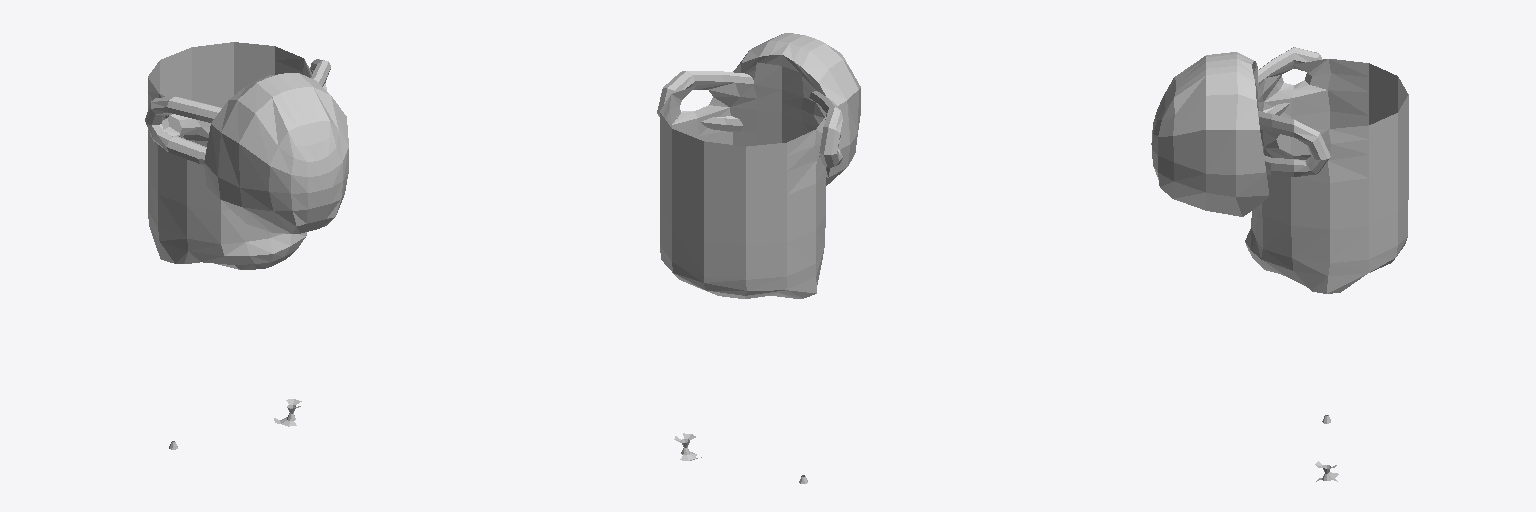
File: FinnT.obj
3 renders of one model, left to right at view 1: azimuth 30°, elevation 25°; view 2: azimuth 150°, elevation 25°; view 3: azimuth 270°, elevation 25°, orthographic.
Visible parts, largest first — view 1: FinnTorso_finn_color; view 2: FinnTorso_finn_color; view 3: FinnTorso_finn_color.
Part boxes in pixels (left/top/right/bottom): FinnTorso_finn_color: left=145, top=42, right=348, bottom=449; FinnTorso_finn_color: left=657, top=33, right=860, bottom=483; FinnTorso_finn_color: left=1151, top=47, right=1408, bottom=481.
Size of the model in its own units: 3.06 by 6.44 by 3.8.